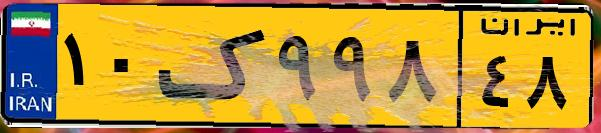0: (110, 28, 158, 98)
1: (57, 26, 110, 100)
4: (475, 38, 525, 113)
8: (385, 28, 445, 110), (525, 38, 570, 115)
9: (270, 28, 330, 110), (330, 28, 385, 110)
ک: (158, 12, 270, 120)
